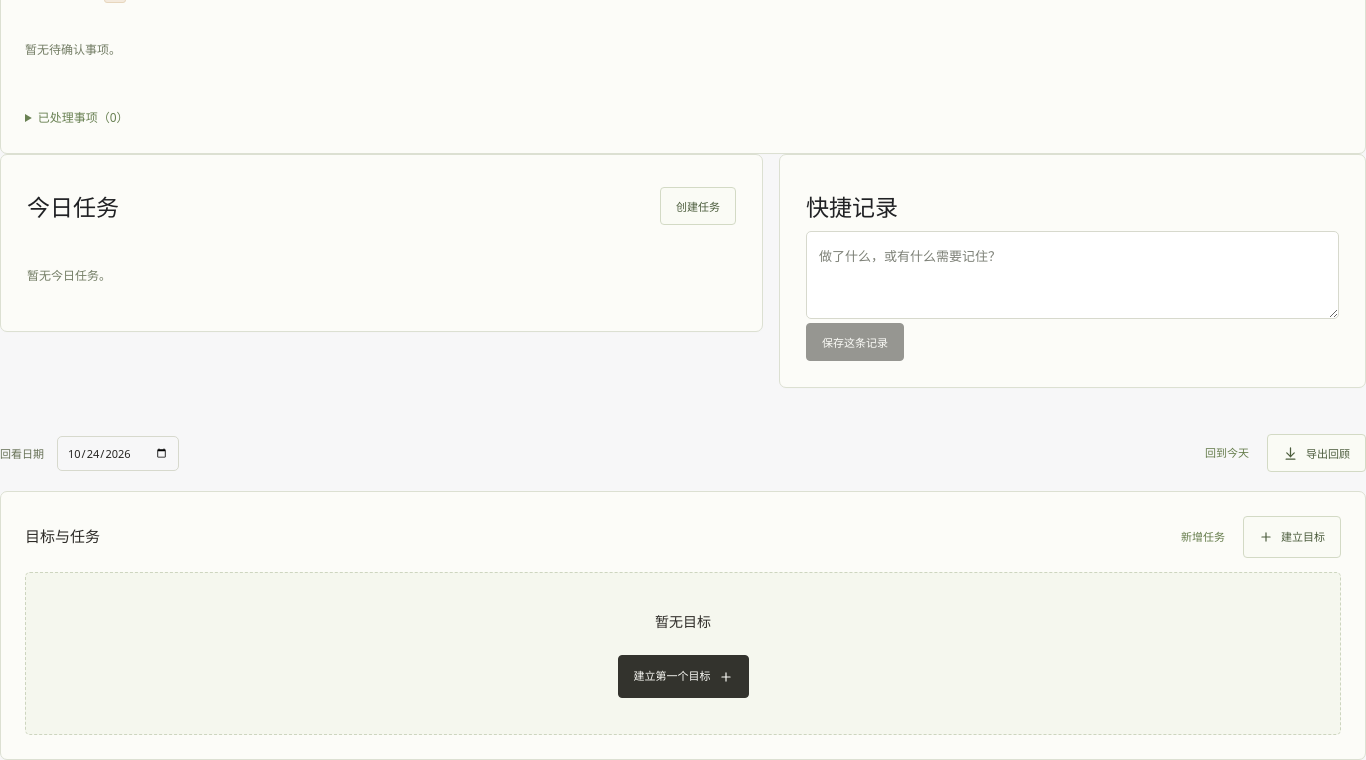
Test: recording and approval workflows › starts empty and creates a goal only when the form is submitted
This screenshot has width=1366, height=760.
(page scrolled)
Click the button "建立第一个目标". click: click(683, 677)
box: [618,655,748,698]
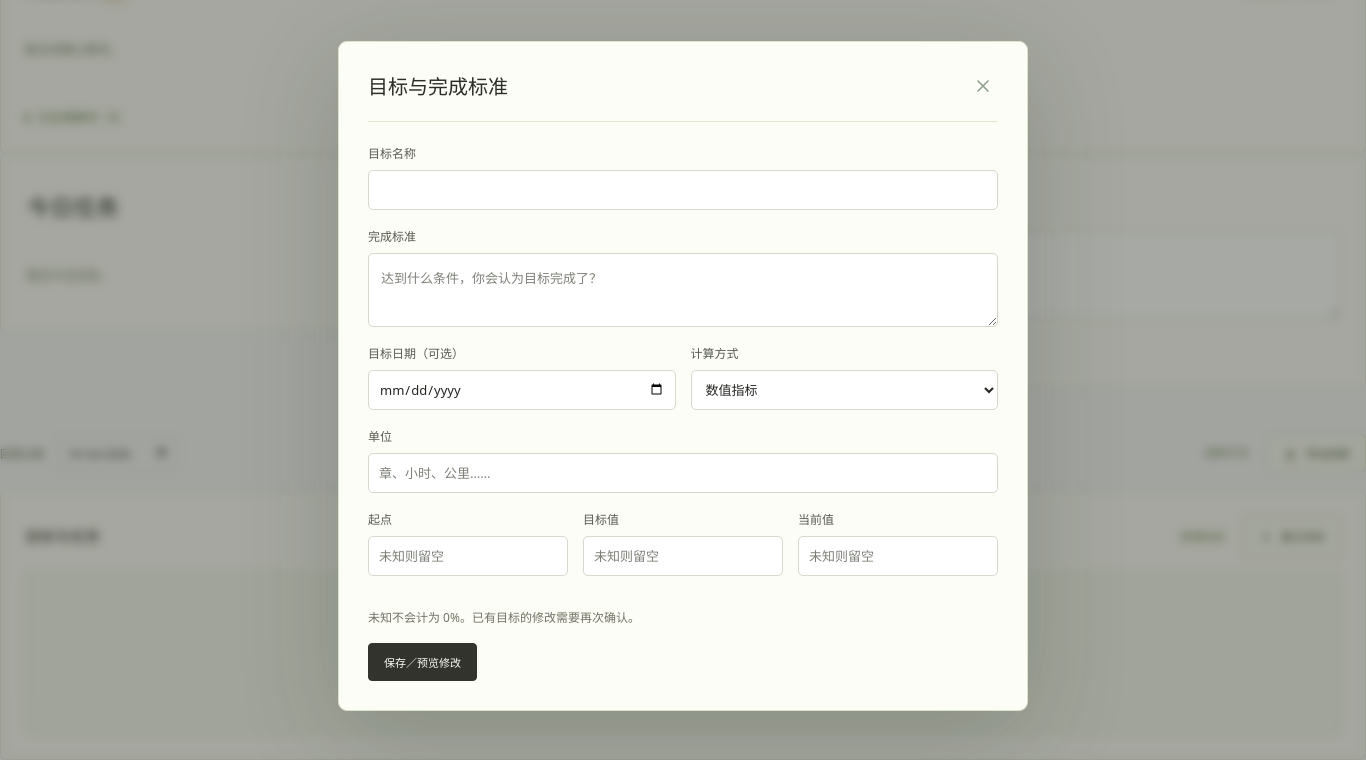
Type "阅读计划" into the field labelled "目标名称". click: (683, 190)
box: [368,170,998,210]
Type "读完十章并留下笔记" into the text box labelled "完成标准". click: (683, 290)
box: [368,252,998,327]
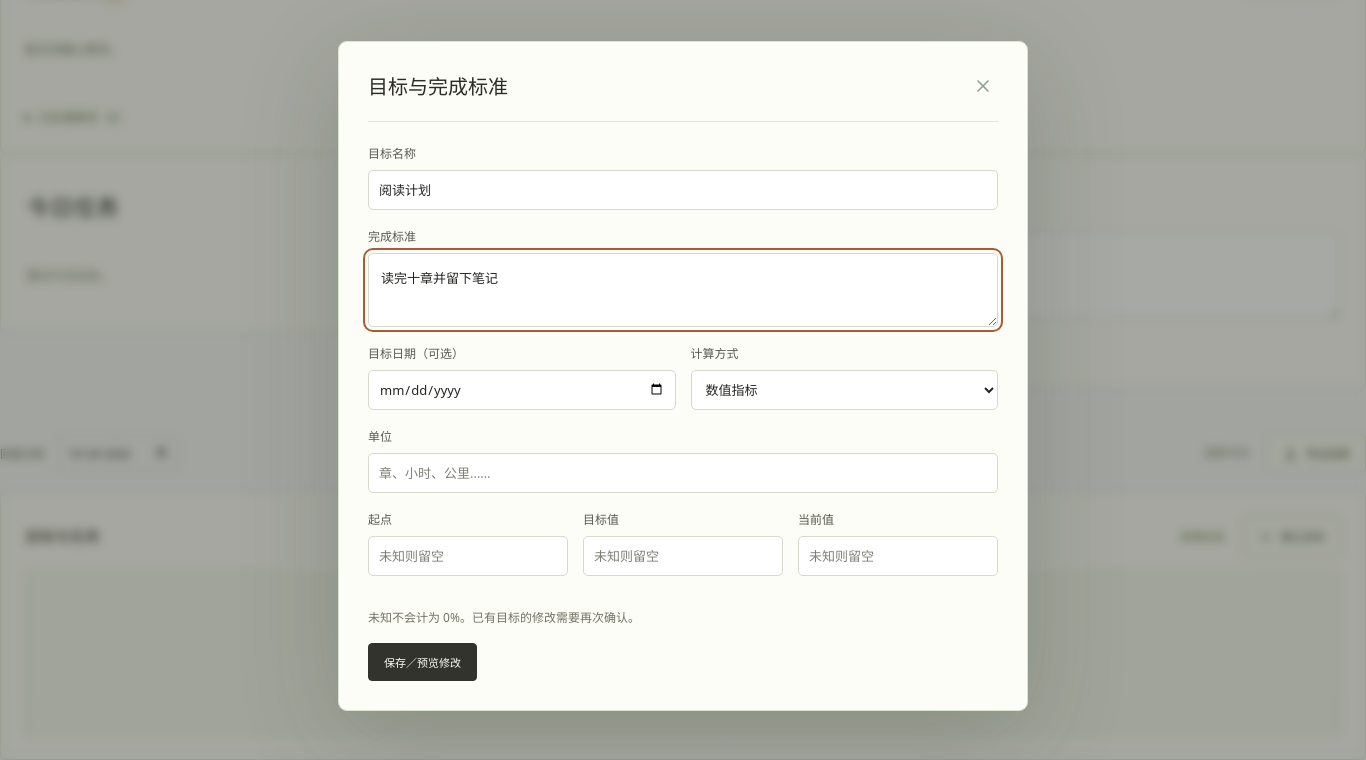
Type "0" into the number field labelled "起点". click: (468, 556)
box: [368,536,568,576]
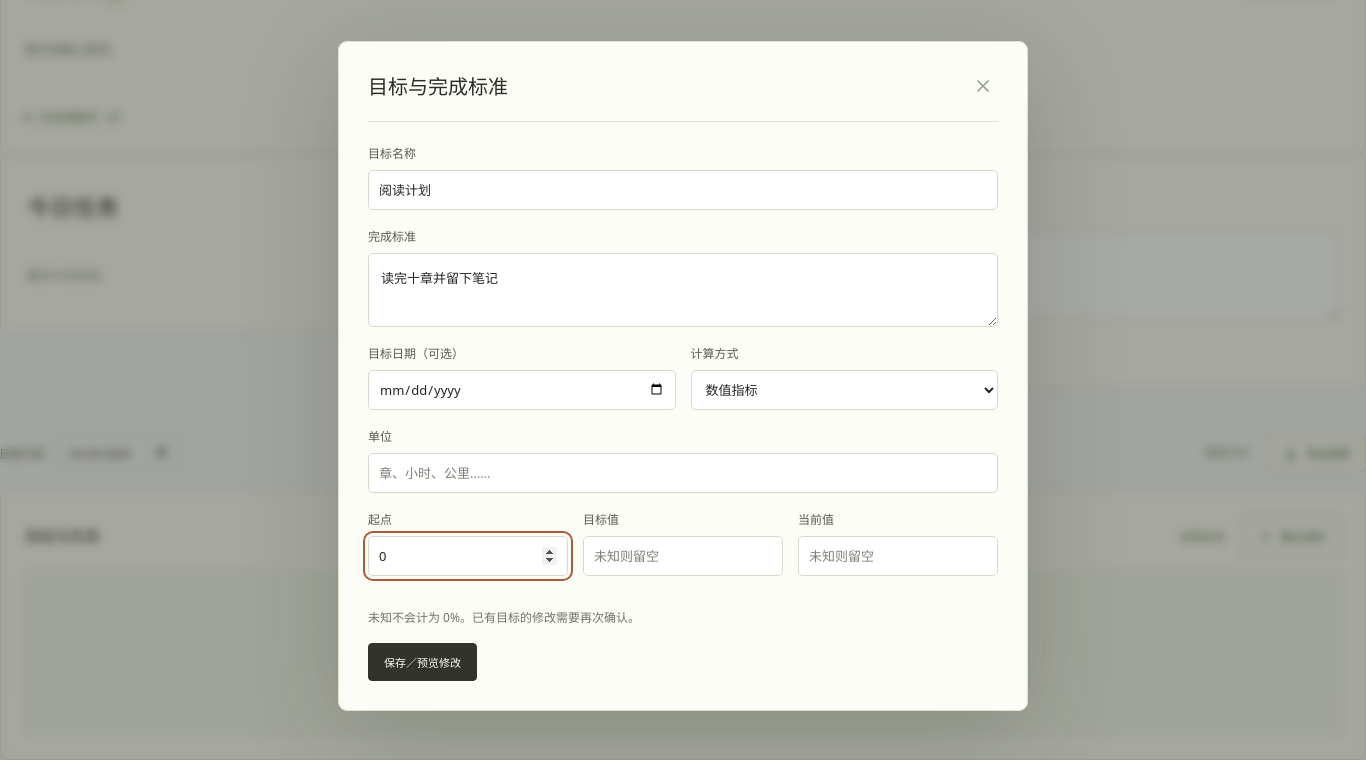
Type "10" into the number field labelled "目标值". click: (683, 556)
box: [583,536,783,576]
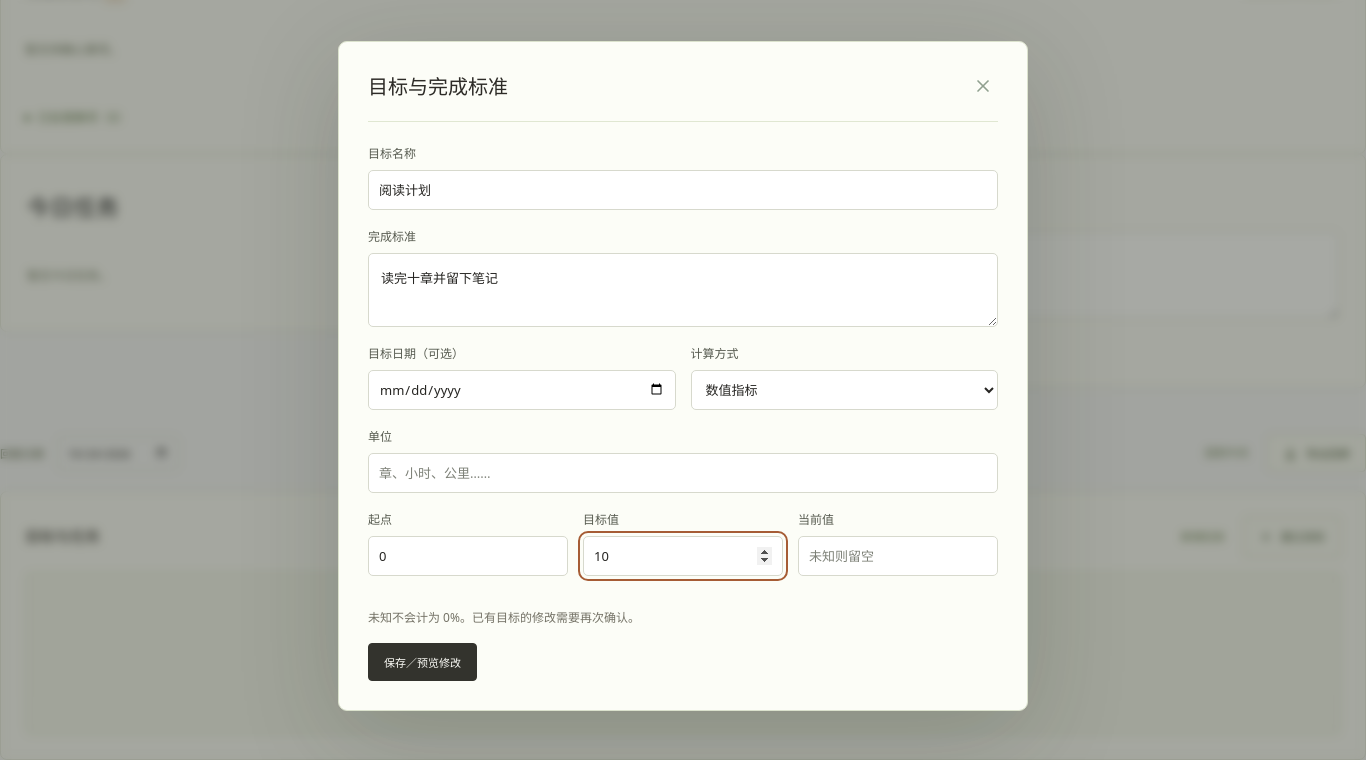
Type "2" into the number field labelled "当前值". click: (898, 556)
box: [798,536,998,576]
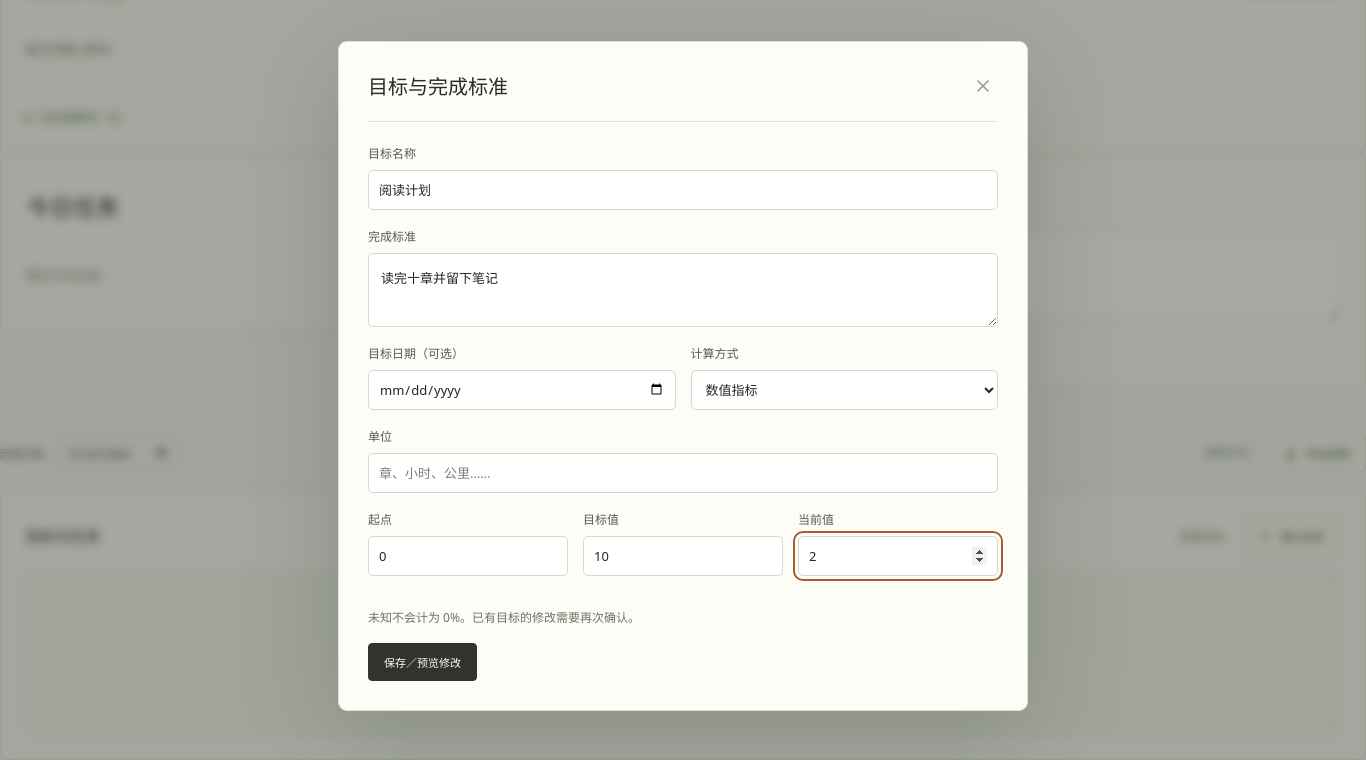
Click the button "保存／预览修改". click: click(422, 662)
box: [368,643,477,681]
(page scrolled)
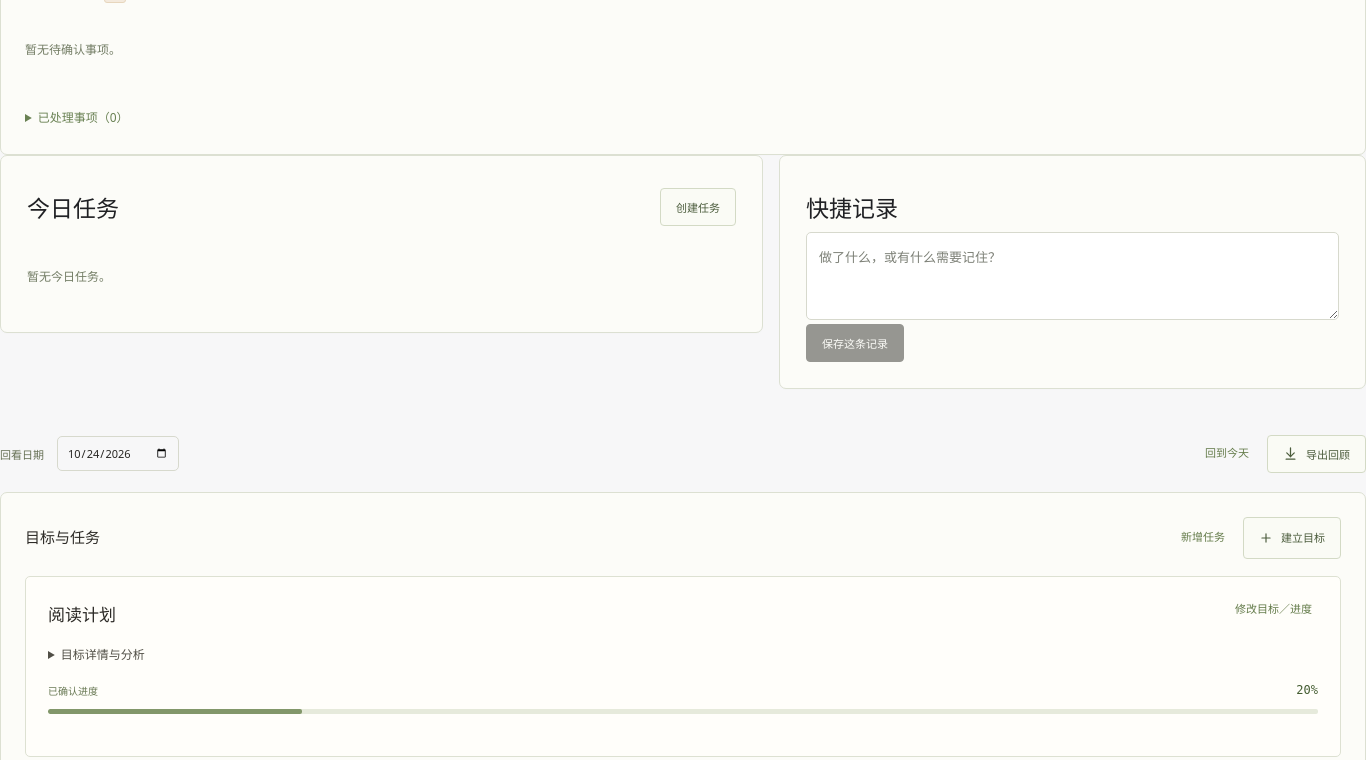
Check: the heading "阅读计划" is shown, box [48,599,116,630]
